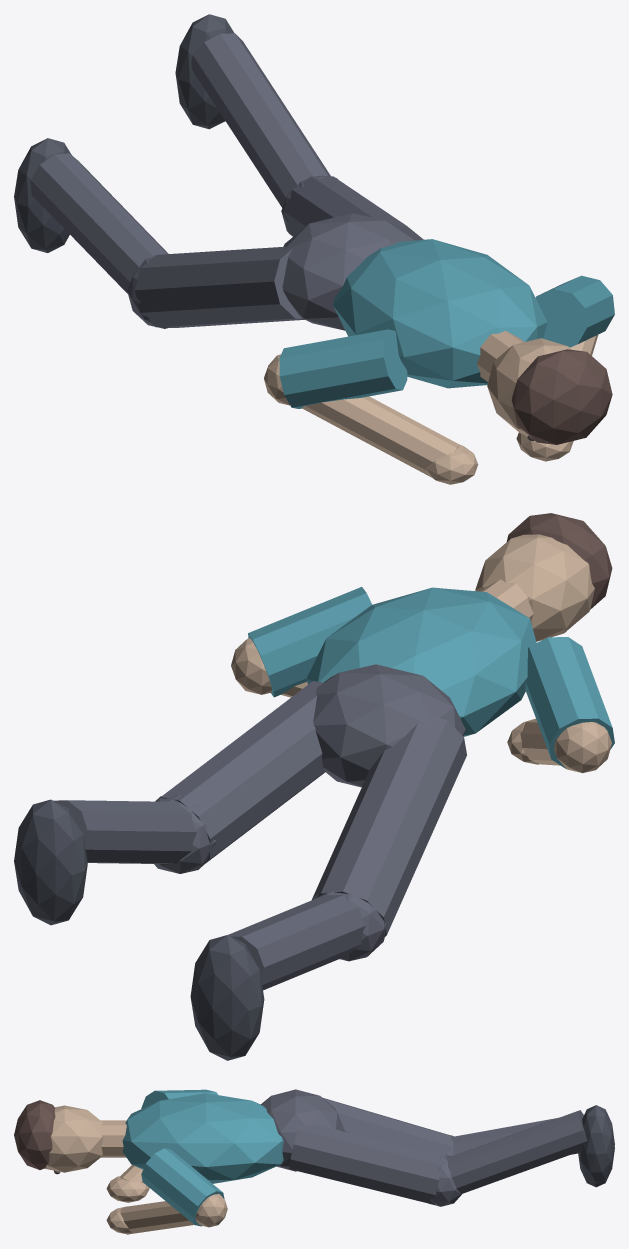
3 renders of one model, top to bottom at view 1: azimuth 30°, elevation 25°; view 2: azimuth 150°, elevation 25°; view 3: azimuth 270°, elevation 25°, orthographic. The views are drawn at different scales.
Visible parts, largest first — view 1: world; view 2: world; view 3: world.
Boxes of the visible parts, x1,y1,x2,y2 form: world: (14,14,614,484); world: (14,513,614,1060); world: (14,1089,614,1234).
Bounding box in the file's own units: 0.93 × 0.52 × 2.08.
